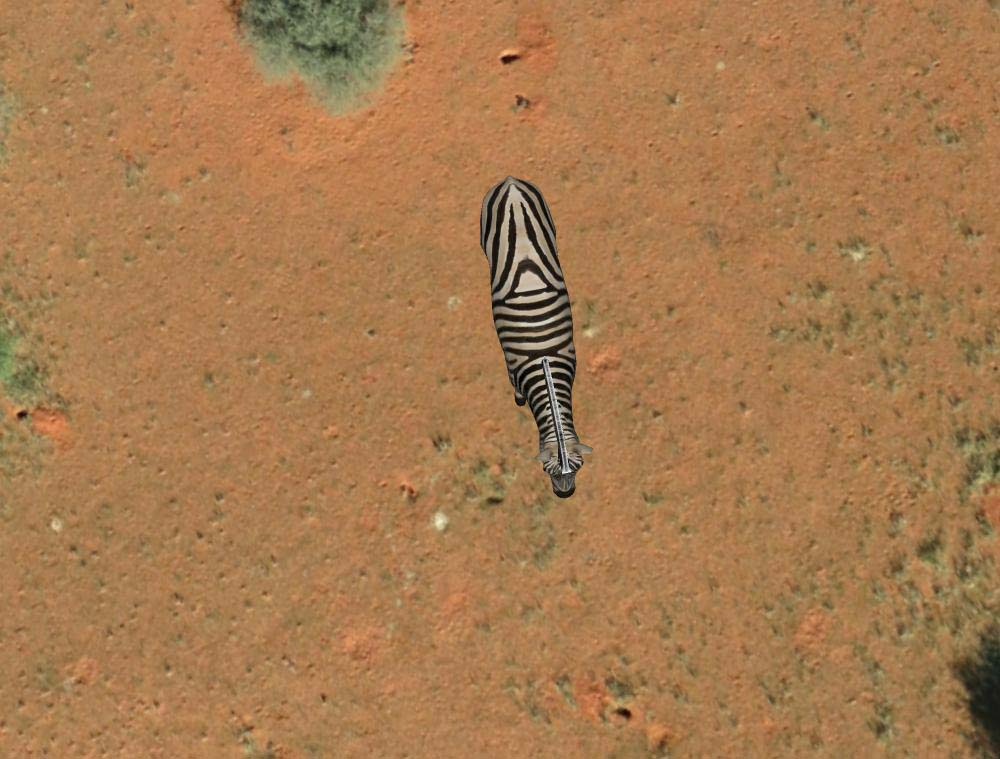zebra: (472, 172, 593, 500)
